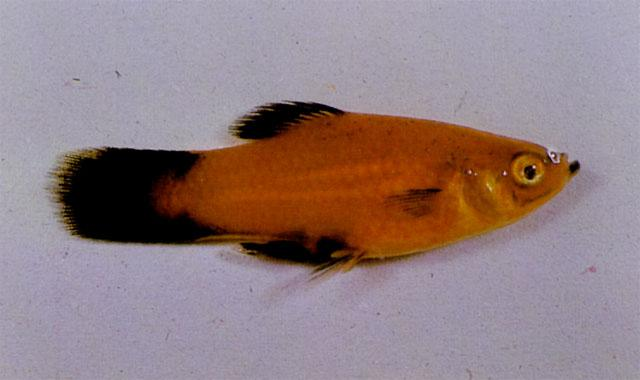Mulut: (542, 133, 606, 207)
Sirip Anal: (190, 222, 306, 266)
Sirip Dada: (370, 169, 450, 226)
Sirip Ekor: (32, 130, 136, 260)
Sirip Perut: (277, 240, 378, 308)
Sirip Punggung: (214, 85, 346, 152)
